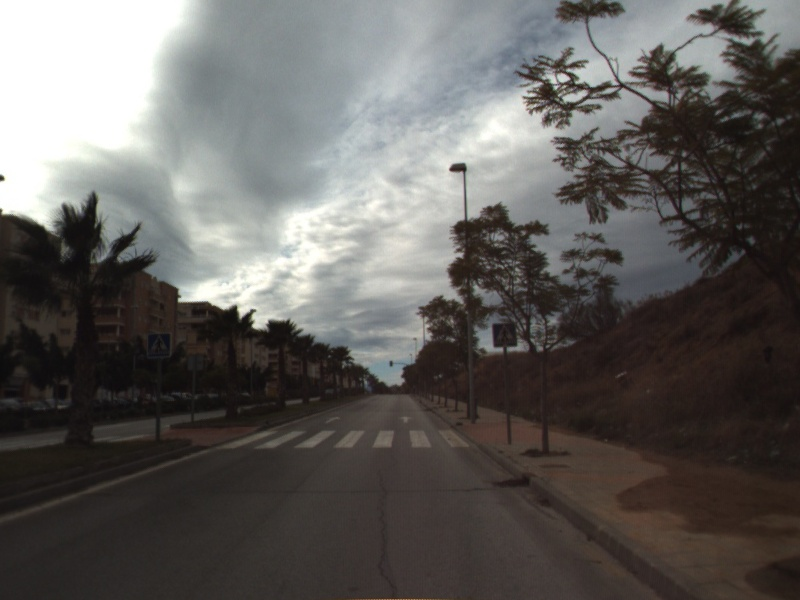STRAIGHT: (323, 414, 343, 425), (397, 414, 414, 425)
